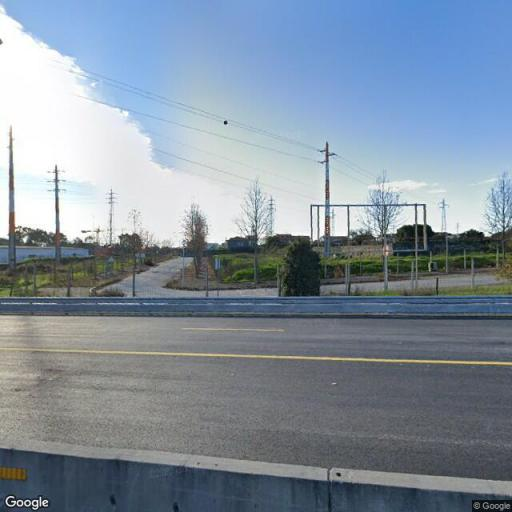mono_10: (317, 138, 337, 258), (5, 123, 19, 271)
mono_9: (48, 162, 66, 262)
ss_3: (104, 189, 118, 244), (266, 193, 276, 237)
ss_4: (438, 198, 450, 232)
